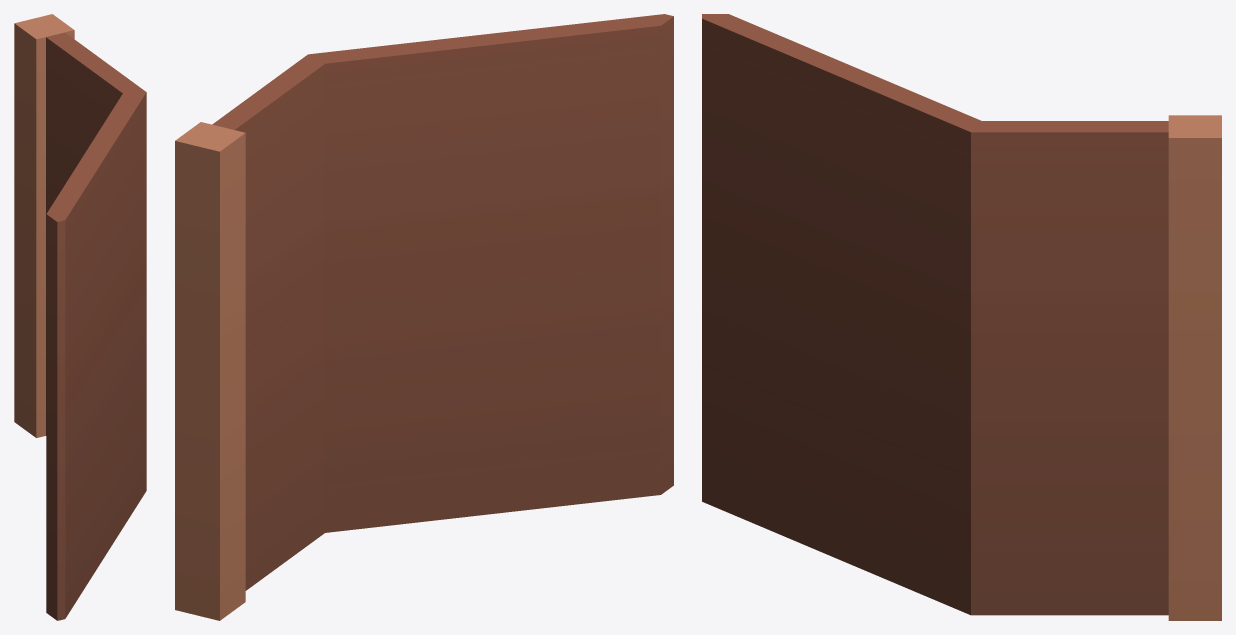
File: wall-wood-corner-diagonal-half.glb
3 renders of one model, left to right at view 1: azimuth 30°, elevation 25°; view 2: azimuth 150°, elevation 25°; view 3: azimuth 270°, elevation 25°, orthographic. The views are drawn at different scales.
Parts seen in each view (by area): view 1: wall-wood-corner-diagonal-half; view 2: wall-wood-corner-diagonal-half; view 3: wall-wood-corner-diagonal-half.
Boxes of the visible parts, x1,y1,x2,y2 form: wall-wood-corner-diagonal-half: (14,14,146,620); wall-wood-corner-diagonal-half: (175,14,673,620); wall-wood-corner-diagonal-half: (702,14,1221,620).
Size of the model in its own units: 0.55 by 1 by 0.975.
1 material, 1 textured.
